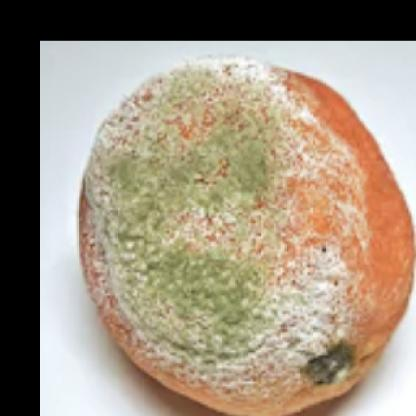rotten: (76, 55, 416, 416)
